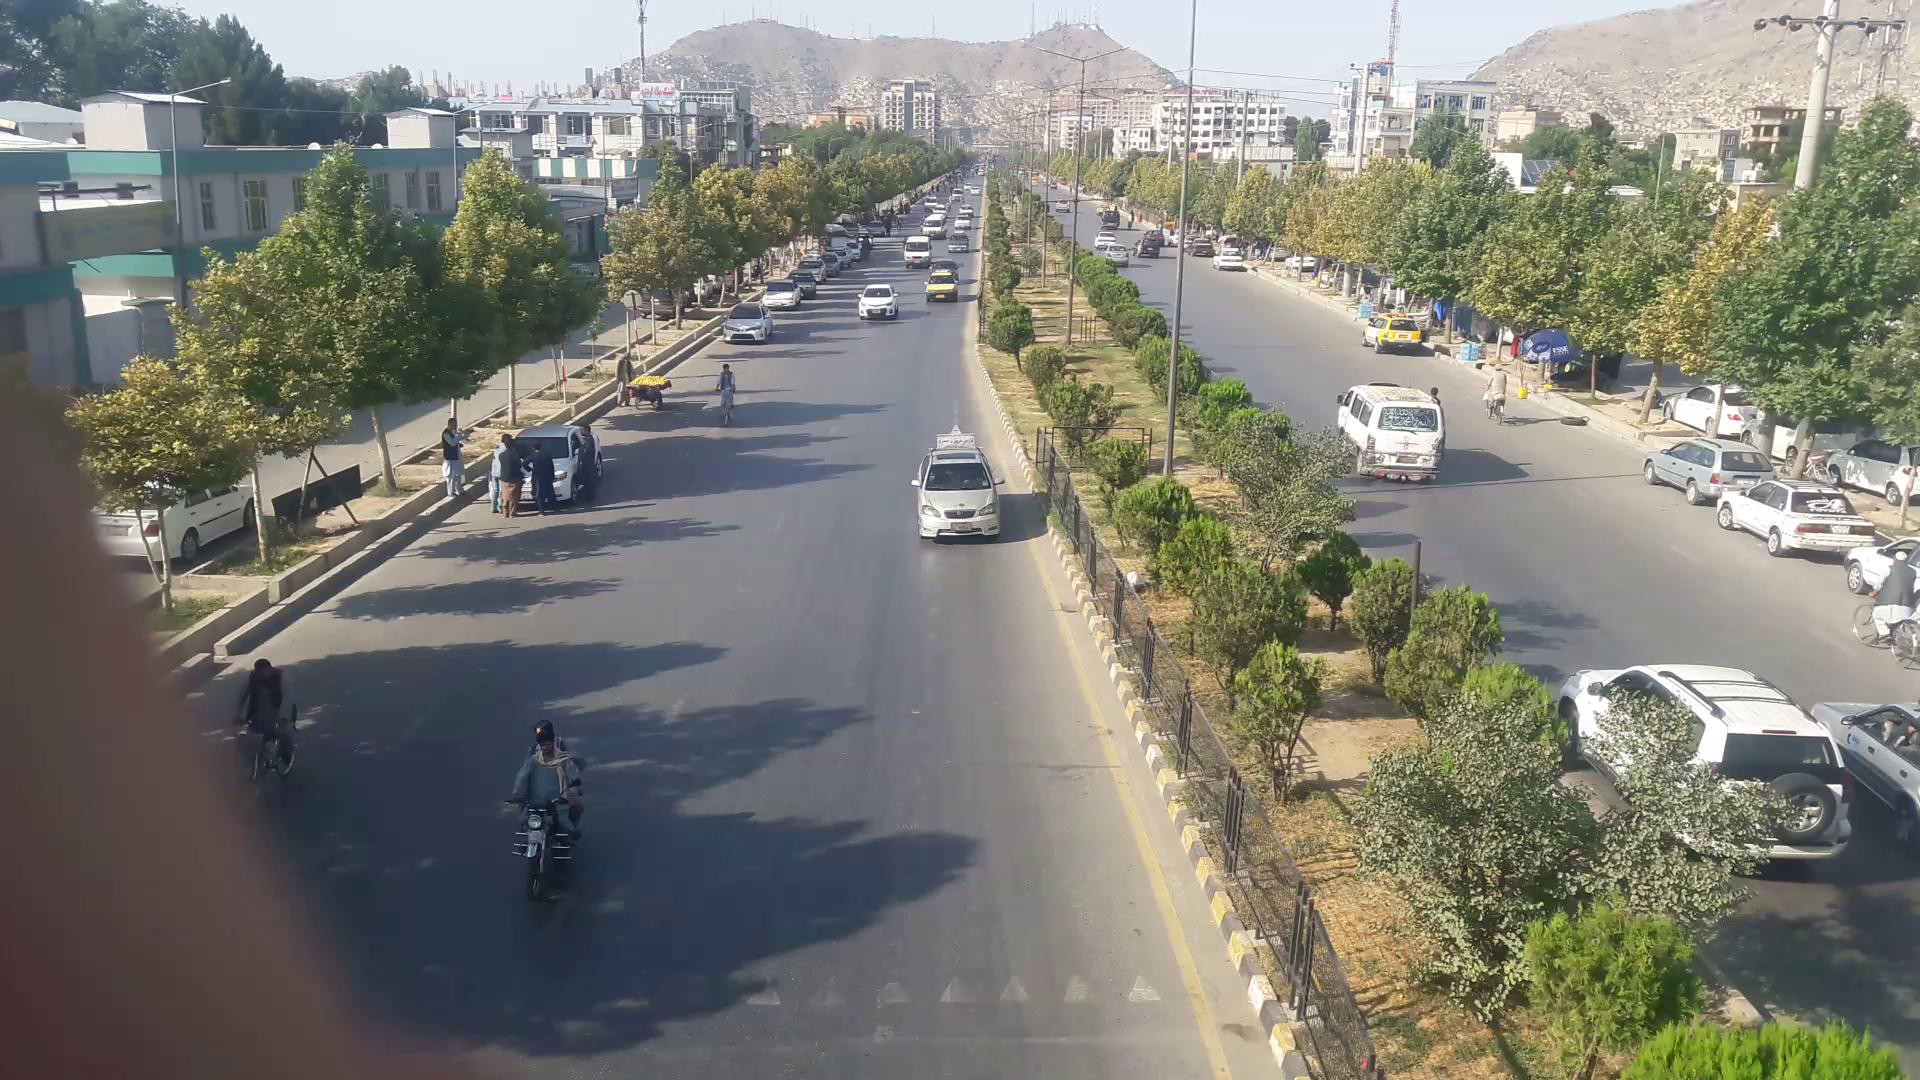bus: (1337, 382, 1452, 473)
car: (1564, 650, 1861, 860), (1718, 481, 1880, 562), (1650, 442, 1787, 505), (914, 448, 1001, 541), (1357, 314, 1419, 351), (721, 309, 773, 344), (862, 289, 902, 318), (762, 285, 806, 309), (922, 274, 959, 302), (1105, 243, 1130, 265)
